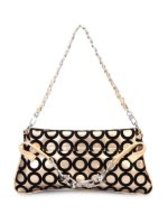bag: (12, 25, 157, 197)
